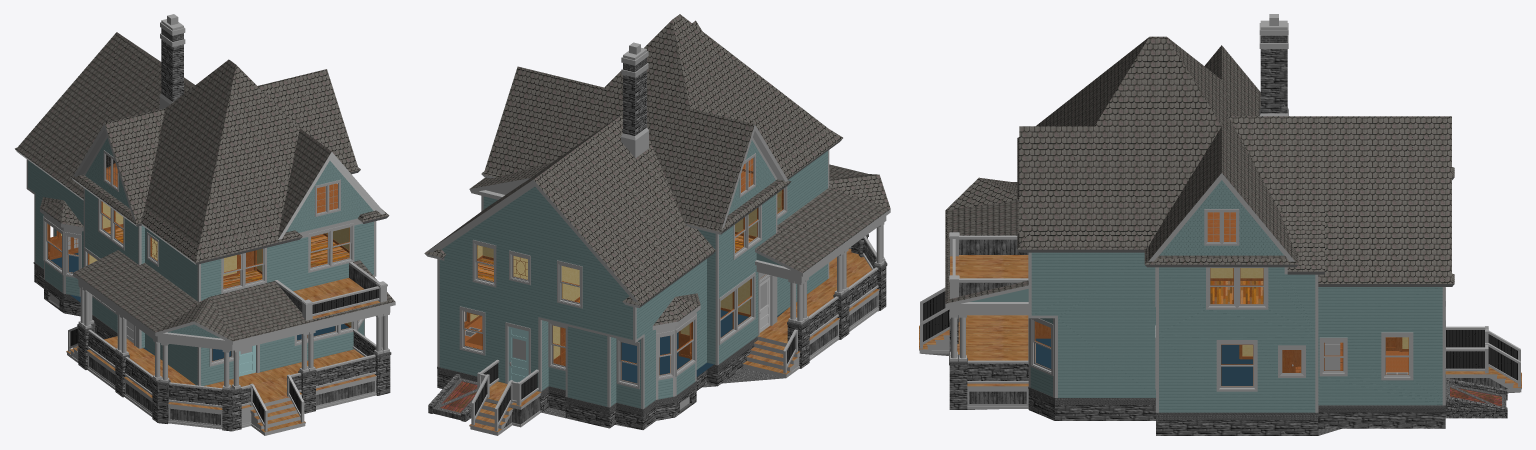
The model's file is storyReel2.fbx.
3 renders of one model, left to right at view 1: azimuth 30°, elevation 25°; view 2: azimuth 150°, elevation 25°; view 3: azimuth 270°, elevation 25°, orthographic. The views are drawn at different scales.
Parts seen in each view (by area): view 1: polySurface848; view 2: polySurface848; view 3: polySurface848.
Boxes of the visible parts, left/top/right/bottom form: polySurface848: left=15, top=14, right=395, bottom=435; polySurface848: left=424, top=14, right=890, bottom=435; polySurface848: left=919, top=14, right=1521, bottom=435.
Size of the model in its own units: 488 by 525 by 825.
